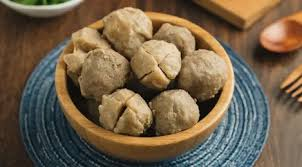bakso: (51, 7, 240, 148)
